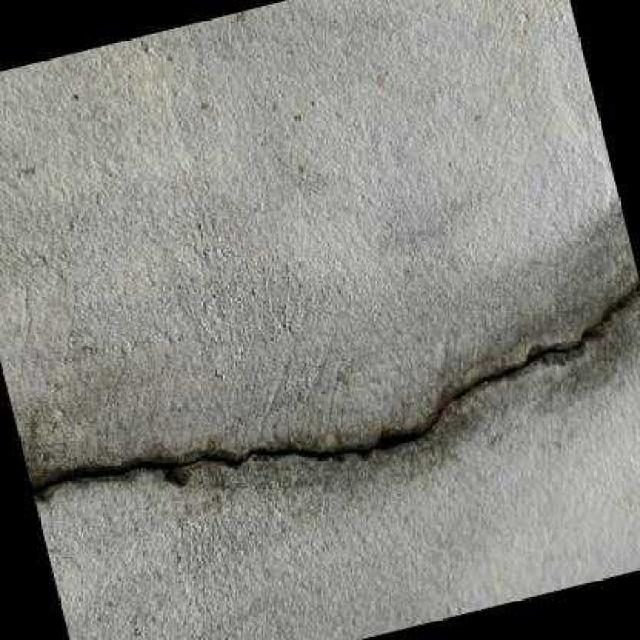D00: (32, 285, 640, 491)
